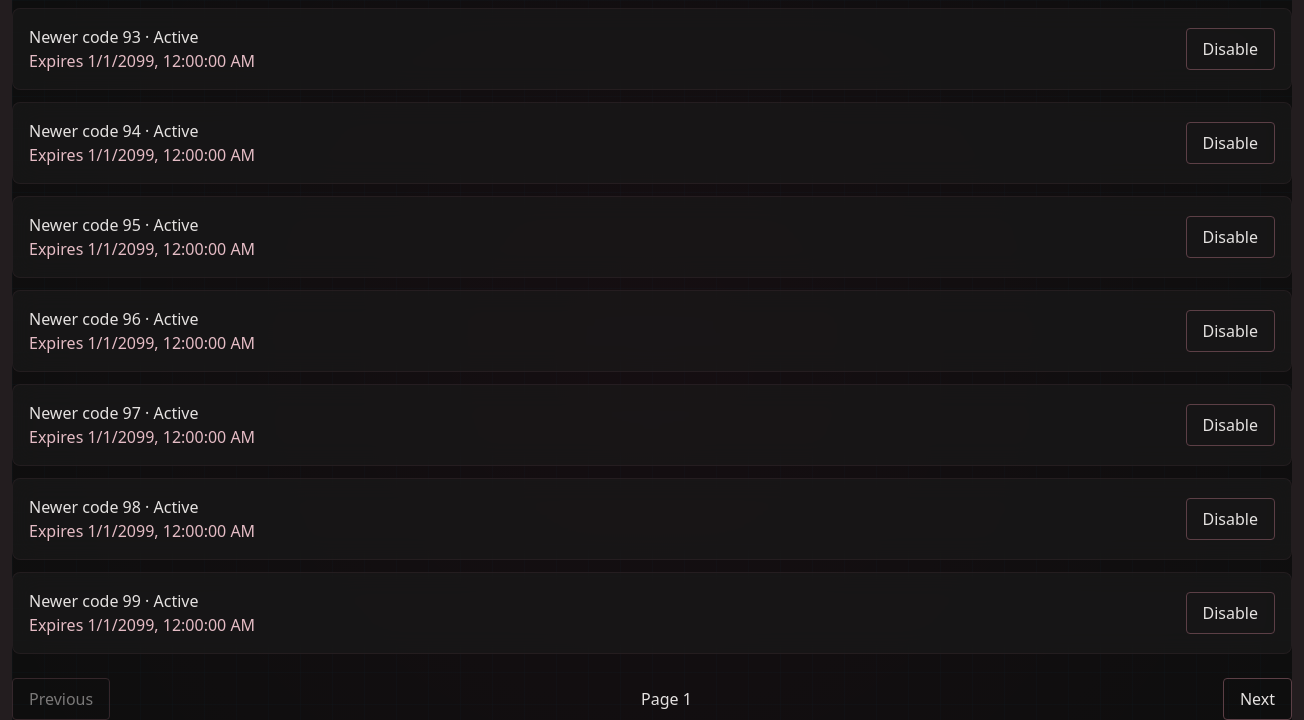
Test: admin signup code pagination › preserves an issued code after creation on a later page (reload fails: false)
(page scrolled)
Click the button "Next".
click(1257, 699)  # box [1223,678,1292,719]
(page scrolled)
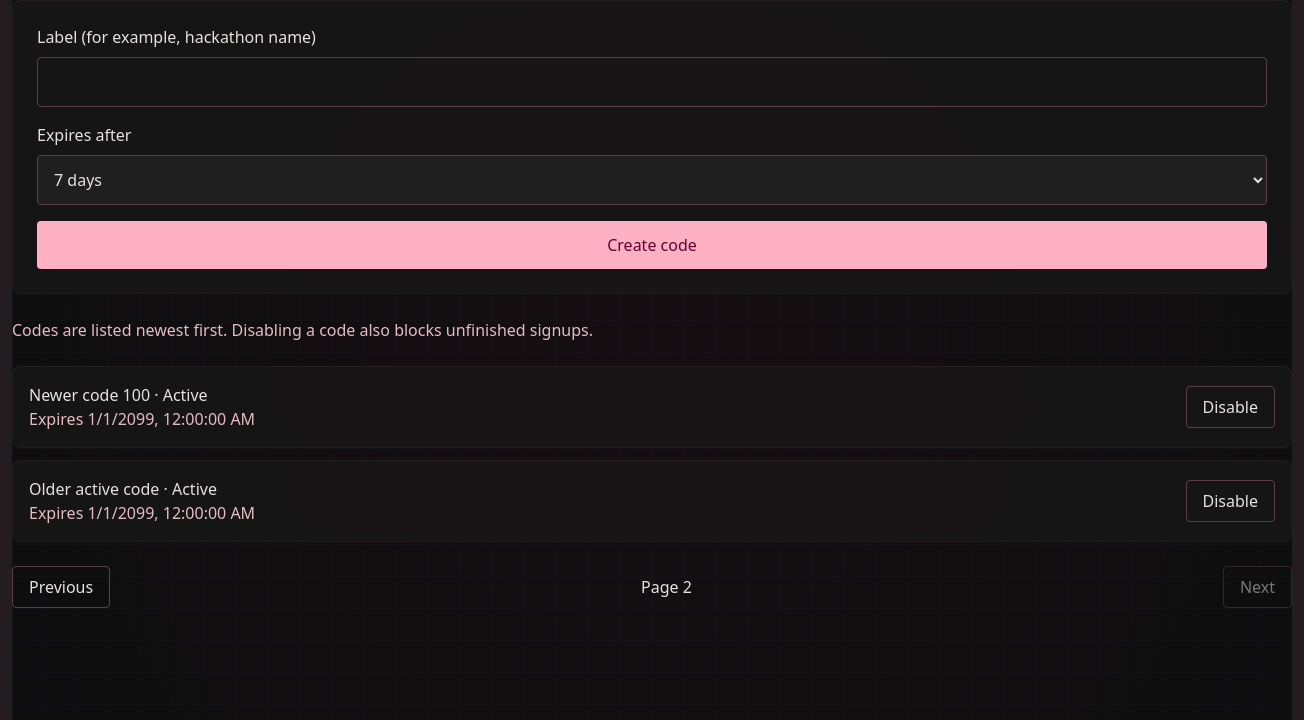
Result: the text "Page 2" is shown at [641,575,692,599]
Type "New event" into the field.
click(652, 82); type("New event")  # box [37,57,1267,107]
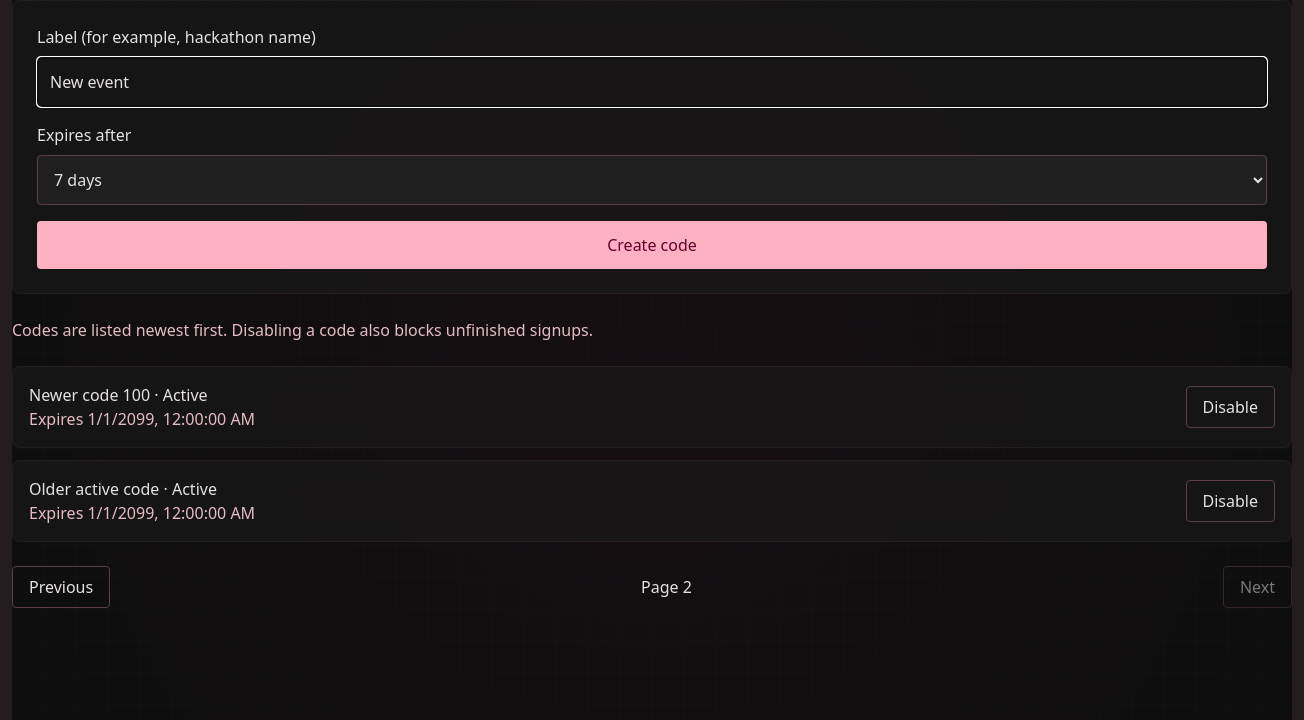
Click the button "Create code".
click(652, 245)  # box [37,221,1267,269]
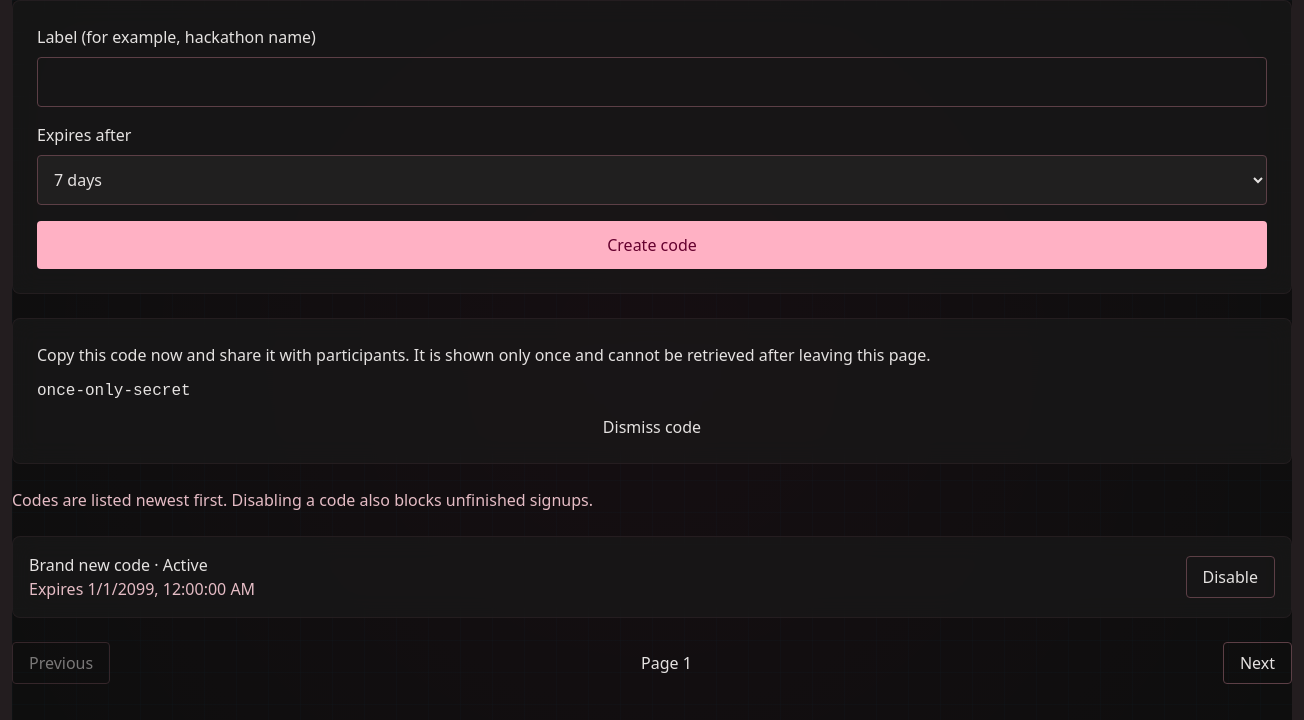
Result: the text "once-only-secret" is shown at [37,382,191,400]
Result: the text "Page 1" is shown at [641,651,692,675]
Result: the text "Brand new code · Active" is shown at [29,554,208,576]
